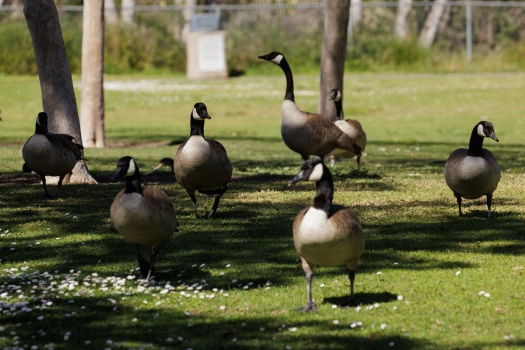goose: (284, 160, 372, 307), (172, 103, 236, 224), (442, 120, 509, 217)
